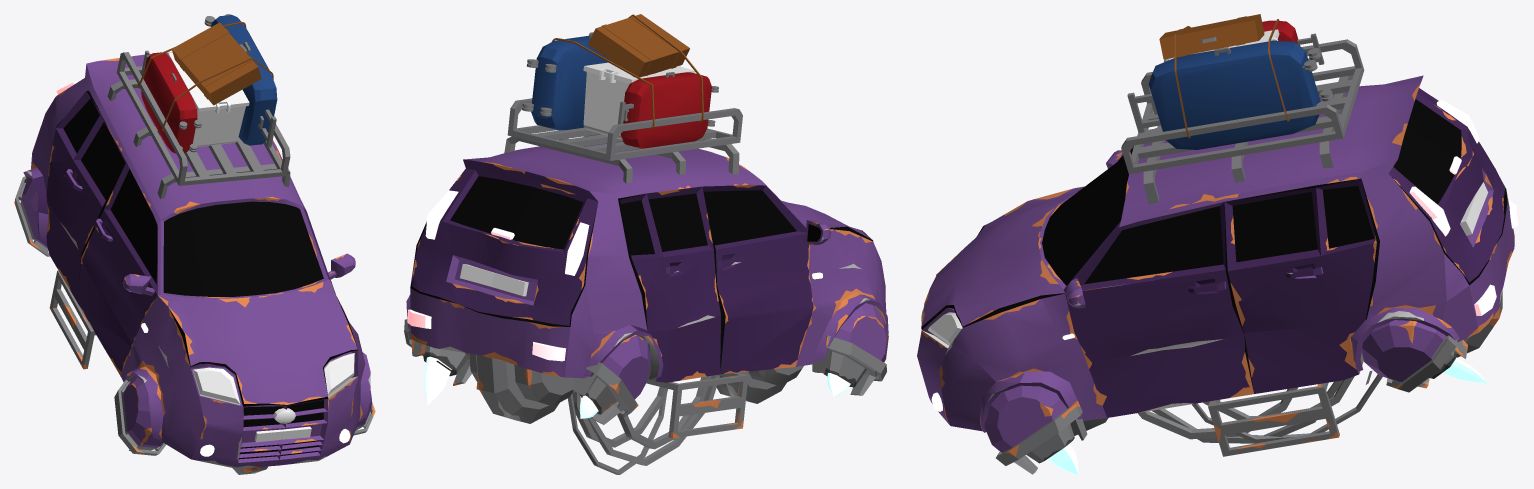
The model's file is low_poly_purple_perodua_myvi_car.fbx.
The picture shows the model from 3 angles, left to right: view 1: azimuth 30°, elevation 25°; view 2: azimuth 150°, elevation 25°; view 3: azimuth 270°, elevation 25°; orthographic projection. The views are drawn at different scales.
Visible parts, largest first — view 1: car_16, nozzle_front_right_11, nozzle_rear_right_15; view 2: car_16, nozzle_front_right_11, nozzle_rear_right_15, nozzle_rear_left_13, cable.003_2, cable.001_3, cable_0, cable.002_1, nozzle_fire_rear_left_12; view 3: car_16, nozzle_front_left_9, nozzle_rear_left_13, cable.002_1, cable.003_2, cable_0.
Part boxes in pixels (x1=…): car_16: x1=23, y1=14, x2=370, y2=474; nozzle_front_right_11: x1=114, y1=376, x2=166, y2=455; nozzle_rear_right_15: x1=14, y1=176, x2=49, y2=256; car_16: x1=406, y1=14, x2=888, y2=438; nozzle_front_right_11: x1=812, y1=303, x2=888, y2=395; nozzle_rear_right_15: x1=572, y1=334, x2=650, y2=424; nozzle_rear_left_13: x1=404, y1=319, x2=471, y2=385; cable.003_2: x1=588, y1=375, x2=719, y2=465; cable.001_3: x1=572, y1=387, x2=667, y2=447; cable_0: x1=568, y1=393, x2=666, y2=474; cable.002_1: x1=617, y1=376, x2=711, y2=449; nozzle_fire_rear_left_12: x1=423, y1=356, x2=451, y2=404; car_16: x1=917, y1=14, x2=1519, y2=456; nozzle_front_left_9: x1=984, y1=385, x2=1087, y2=474; nozzle_rear_left_13: x1=1362, y1=320, x2=1467, y2=392; cable.002_1: x1=1137, y1=387, x2=1297, y2=439; cable.003_2: x1=1152, y1=380, x2=1343, y2=443; cable_0: x1=1192, y1=374, x2=1382, y2=442.
Size of the model in its own units: 233 by 307 by 372.
